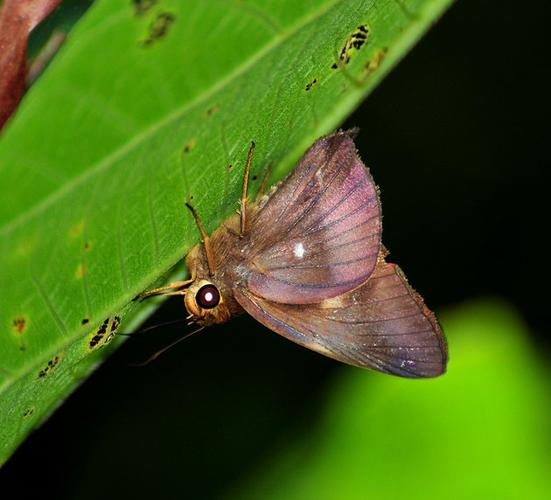Hesperiidae: (156, 124, 451, 384)
